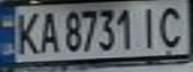1: (112, 4, 136, 51)
3: (97, 6, 118, 52)
7: (78, 7, 100, 53)
8: (60, 7, 81, 53)
A: (36, 8, 60, 55)
C: (154, 2, 190, 48)
I: (136, 3, 163, 50)
K: (9, 8, 42, 55)
